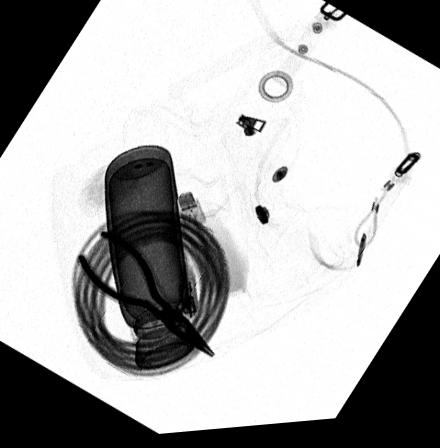Pliers: (75, 231, 215, 360)
